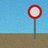sign: (28, 5, 42, 39)
